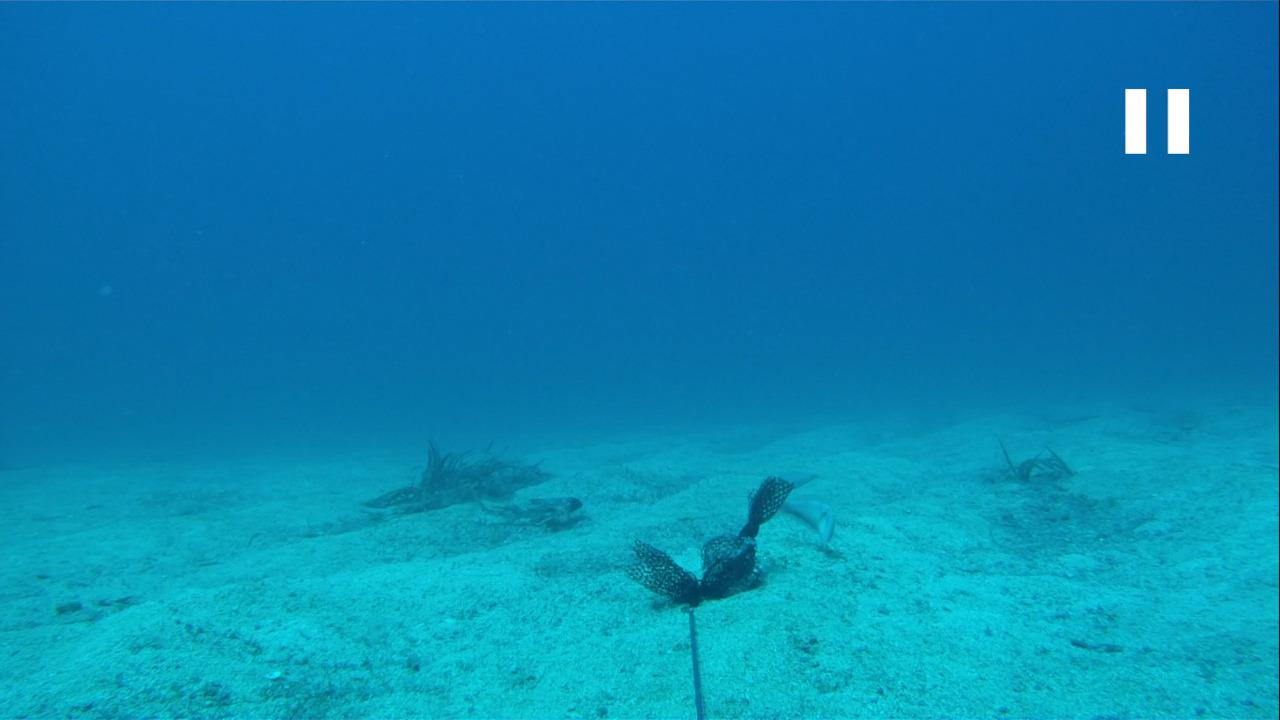dactylopterus: (450, 494, 587, 536)
raor: (777, 497, 836, 545)
